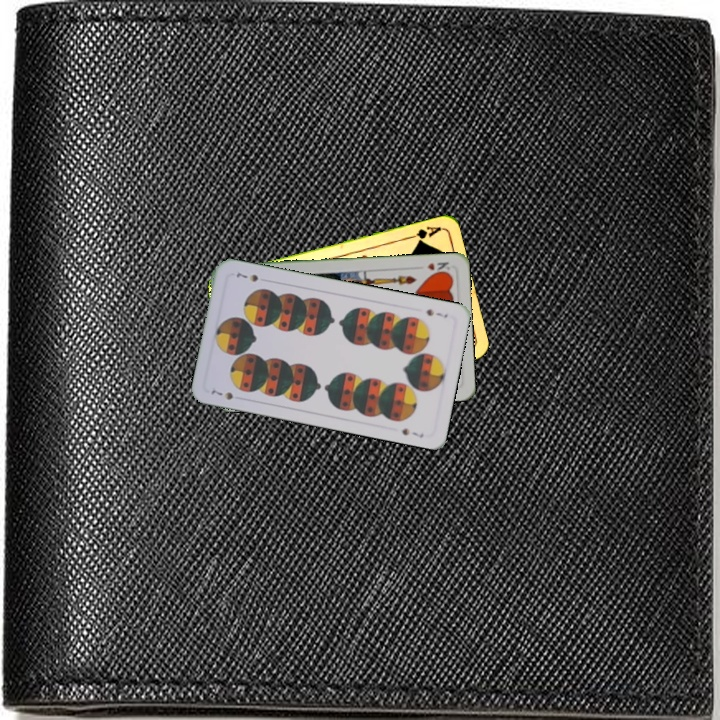GA: (403, 222, 444, 245)
HK: (423, 258, 454, 277)
S7: (207, 386, 236, 403), (422, 305, 450, 320)
